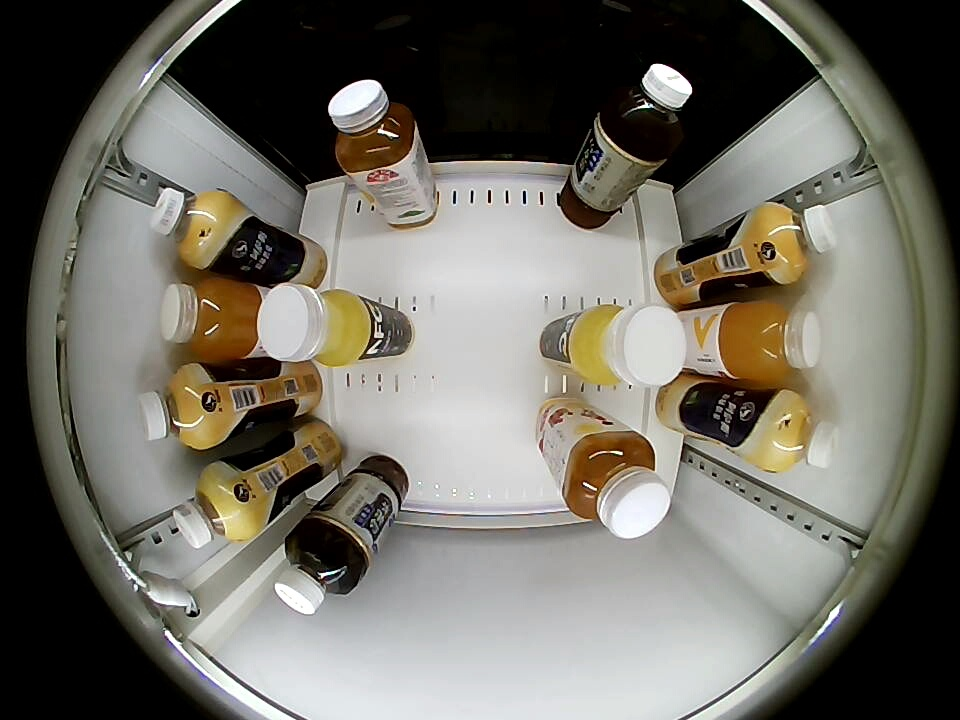asamu: (137, 365, 217, 449), (149, 186, 232, 265), (172, 468, 252, 549), (760, 392, 839, 473), (759, 202, 838, 281)
chapai: (560, 426, 671, 539), (328, 79, 419, 176)
nfc: (577, 303, 688, 390), (257, 283, 370, 367)
weic: (159, 278, 264, 360), (721, 301, 823, 384)
wulongcha: (604, 62, 693, 156), (274, 529, 359, 615)
